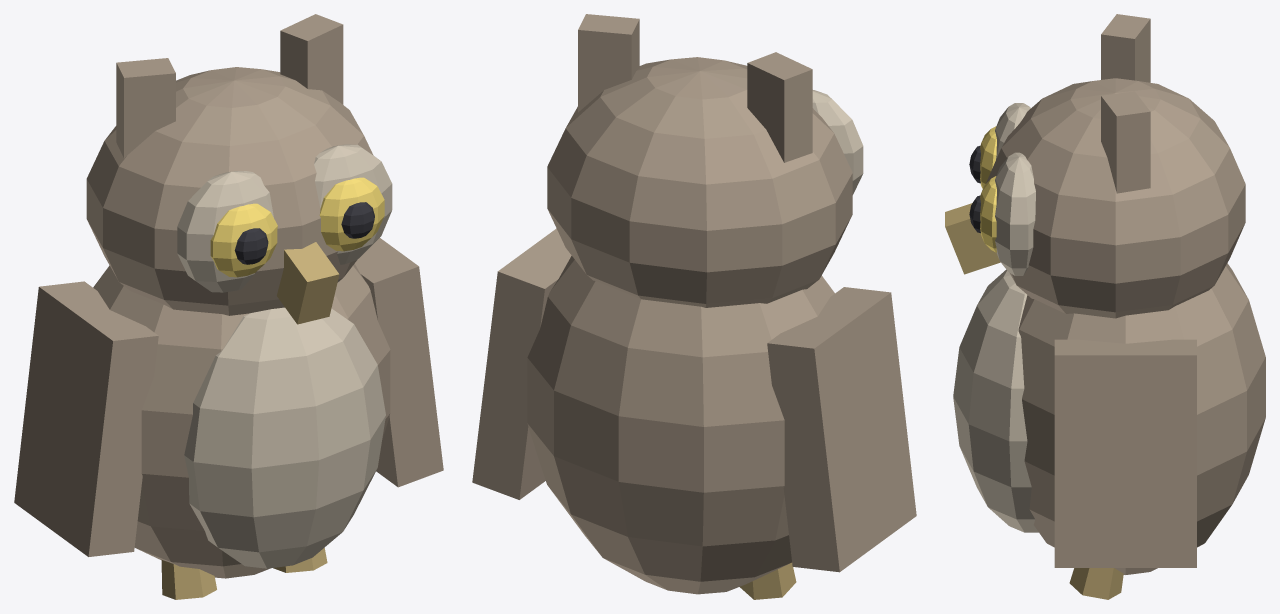
File: buho.glb
3 renders of one model, left to right at view 1: azimuth 30°, elevation 25°; view 2: azimuth 150°, elevation 25°; view 3: azimuth 270°, elevation 25°, orthographic. The views are drawn at different scales.
Visible parts, largest first — view 1: buho_pecho, buho_cabeza, buho_ala_0, buho_cuerpo, buho_ala_2, buho_disco_0, buho_penacho_0, buho_penacho_2, buho_pico, buho_disco_2, buho_ojo_0, buho_ojo_2 (+3 smaller); view 2: buho_cuerpo, buho_cabeza, buho_ala_0, buho_ala_2, buho_penacho_0, buho_penacho_2, buho_disco_0, buho_pata_0; view 3: buho_cabeza, buho_ala_2, buho_cuerpo, buho_pecho, buho_penacho_2, buho_disco_2, buho_penacho_0, buho_pico, buho_pata_2, buho_ojo_2, buho_disco_0, buho_ojo_0.
Part boxes in pixels (<box>): buho_pecho: <box>184,307,385,568</box>; buho_cabeza: <box>86,67,373,315</box>; buho_ala_0: <box>14,281,158,556</box>; buho_cuerpo: <box>93,263,390,578</box>; buho_ala_2: <box>355,238,443,487</box>; buho_disco_0: <box>177,171,273,292</box>; buho_penacho_0: <box>116,58,175,158</box>; buho_penacho_2: <box>280,14,343,104</box>; buho_pico: <box>277,242,339,324</box>; buho_disco_2: <box>314,144,392,264</box>; buho_ojo_0: <box>210,203,277,277</box>; buho_ojo_2: <box>319,177,384,251</box>; buho_cuerpo: <box>527,256,834,594</box>; buho_cabeza: <box>547,57,852,307</box>; buho_ala_0: <box>767,287,916,572</box>; buho_ala_2: <box>472,228,571,499</box>; buho_penacho_0: <box>747,52,812,162</box>; buho_penacho_2: <box>578,14,639,112</box>; buho_disco_0: <box>812,90,863,194</box>; buho_pata_0: <box>740,562,796,599</box>; buho_cabeza: <box>986,78,1245,318</box>; buho_ala_2: <box>1054,339,1196,567</box>; buho_cuerpo: <box>1018,263,1265,574</box>; buho_pecho: <box>953,269,1038,532</box>; buho_penacho_2: <box>1101,91,1150,193</box>; buho_disco_2: <box>995,152,1035,275</box>; buho_penacho_0: <box>1101,14,1150,82</box>; buho_pico: <box>945,203,1000,274</box>; buho_pata_2: <box>1069,568,1123,599</box>; buho_ojo_2: <box>980,176,996,252</box>; buho_disco_0: <box>995,103,1030,159</box>; buho_ojo_0: <box>980,126,996,188</box>.
Size of the model in its own units: 0.3864 by 0.5451 by 0.3158.
